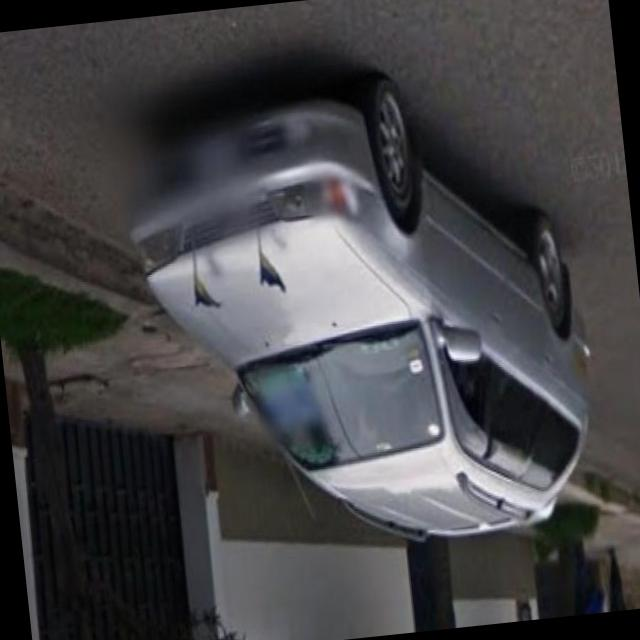car: (108, 55, 608, 577)
